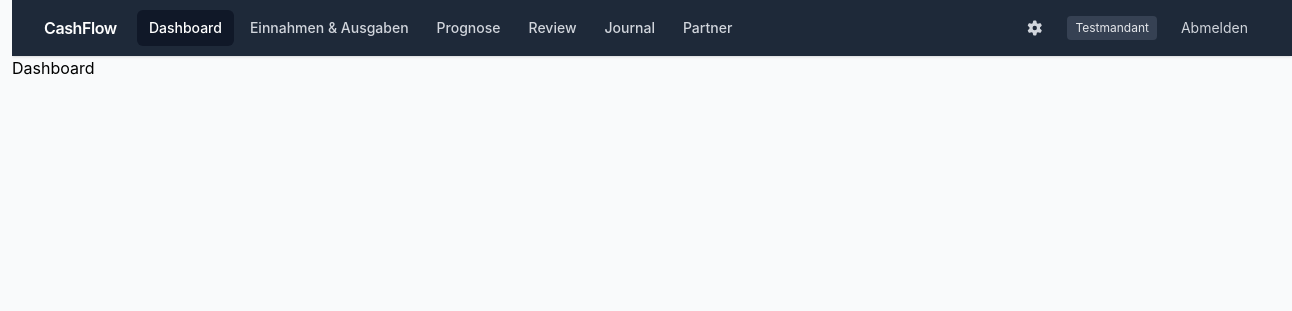
Scenario: AppLayout › groups settings links in the settings menu
The width and height of the screenshot is (1292, 311).
Expected: the link "Konten" is not shown
Expected: the link "Service-Keywords" is not shown
What coordinates should you click on to do the following:
click the button named "Einstellungen"
I would click on:
 (1035, 28)
Its box is 1014,13 -> 1055,43.
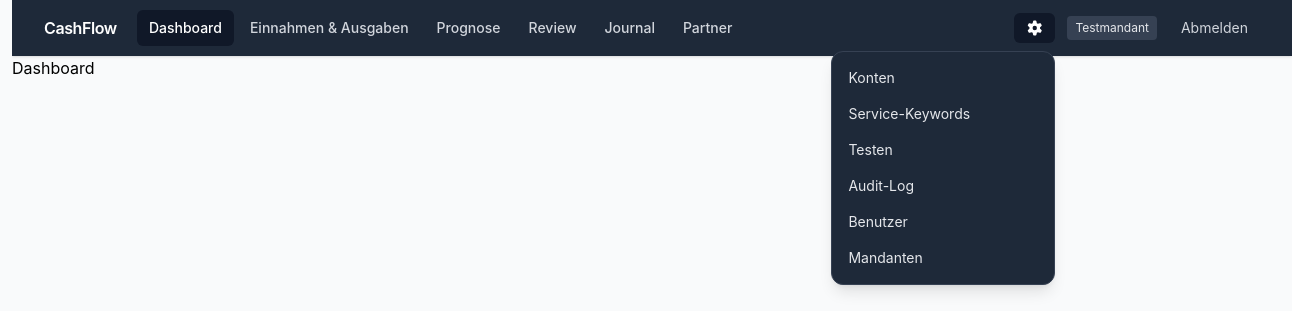
Now the link "Konten" is shown, box 848,69 -> 895,86
Now the link "Service-Keywords" is shown, box 848,105 -> 970,122
Now the link "Audit-Log" is shown, box 848,177 -> 914,194
